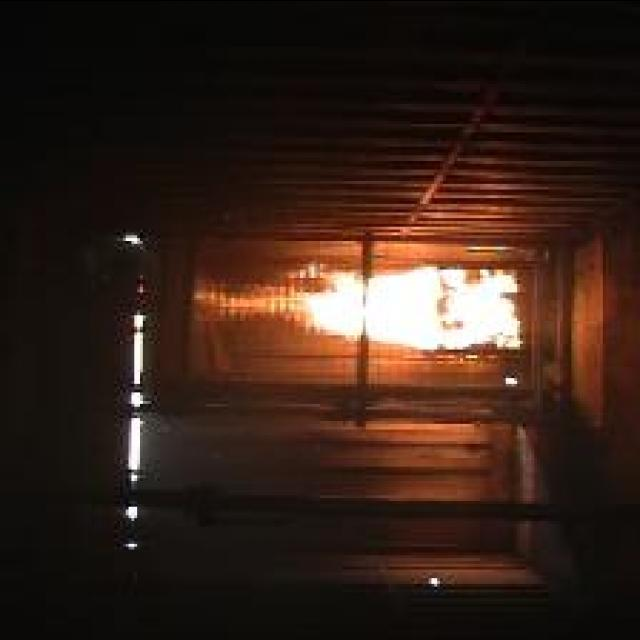Fire: (196, 262, 522, 348)
